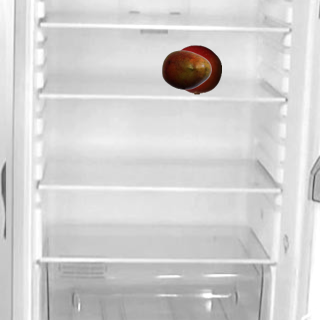Apple Braeburn: (171, 44, 221, 94)
Mango Red: (161, 44, 211, 94)
